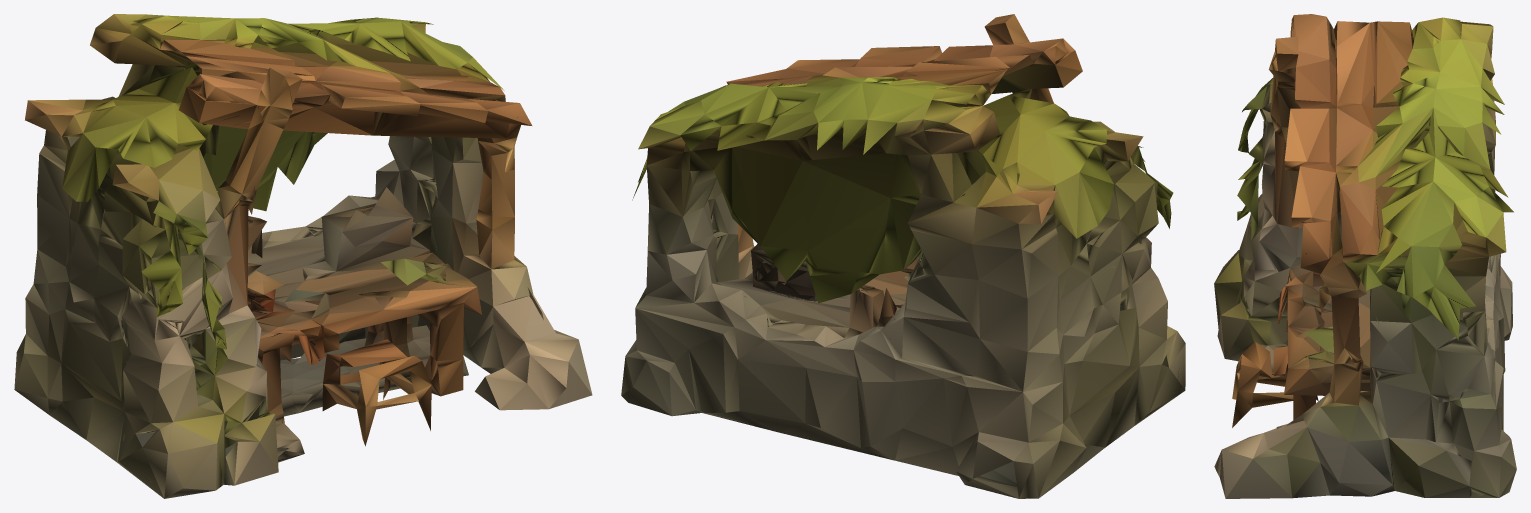
The model's file is building-workshop-repaired-tripo.glb.
The picture shows the model from 3 angles, left to right: view 1: azimuth 30°, elevation 25°; view 2: azimuth 150°, elevation 25°; view 3: azimuth 270°, elevation 25°; orthographic projection. The views are drawn at different scales.
Parts seen in each view (by area): view 1: 0_workshop-repaired; view 2: 0_workshop-repaired; view 3: 0_workshop-repaired.
Boxes of the visible parts, x1,y1,x2,y2 form: 0_workshop-repaired: [14, 14, 592, 498]; 0_workshop-repaired: [621, 14, 1185, 498]; 0_workshop-repaired: [1214, 14, 1516, 498].
Size of the model in its own units: 5.76 by 4.57 by 3.71.
